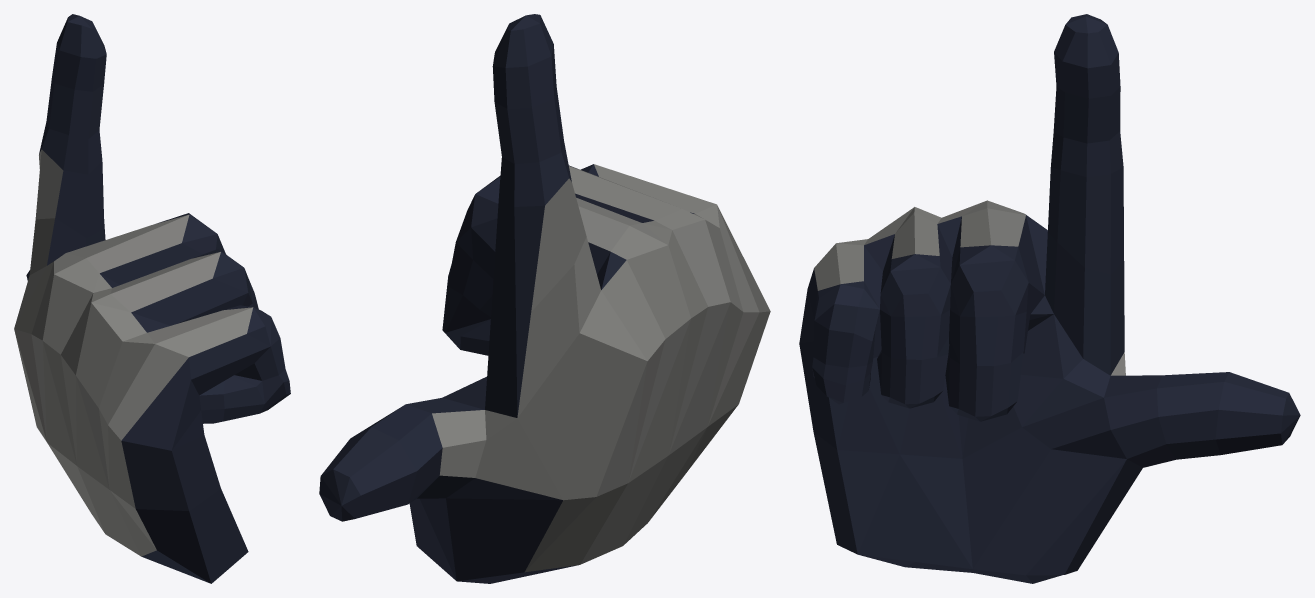
The model's file is Hand_Closed_FIngergun.fbx.
The picture shows the model from 3 angles, left to right: view 1: azimuth 30°, elevation 25°; view 2: azimuth 150°, elevation 25°; view 3: azimuth 270°, elevation 25°; orthographic projection. The views are drawn at different scales.
Visible parts, largest first — view 1: fingergun; view 2: fingergun; view 3: fingergun.
Part boxes in pixels (x1,y1,x2,y2): fingergun: [14, 14, 290, 583]; fingergun: [319, 14, 770, 583]; fingergun: [799, 14, 1300, 583].
Size of the model in its own units: 129 by 311 by 262.
